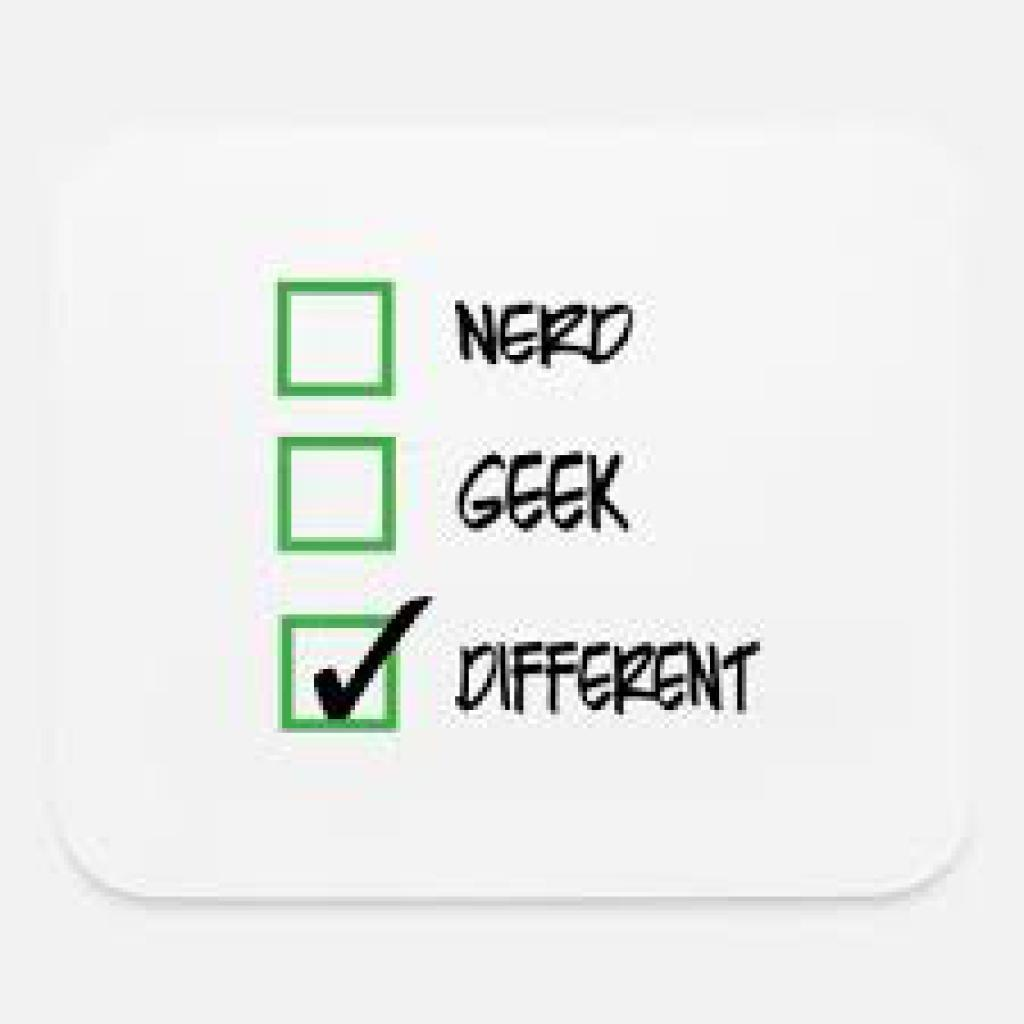checkbox: (284, 622, 397, 728), (283, 442, 392, 549), (283, 294, 393, 394)
label: (453, 634, 768, 728), (454, 435, 636, 542), (447, 296, 644, 377)
